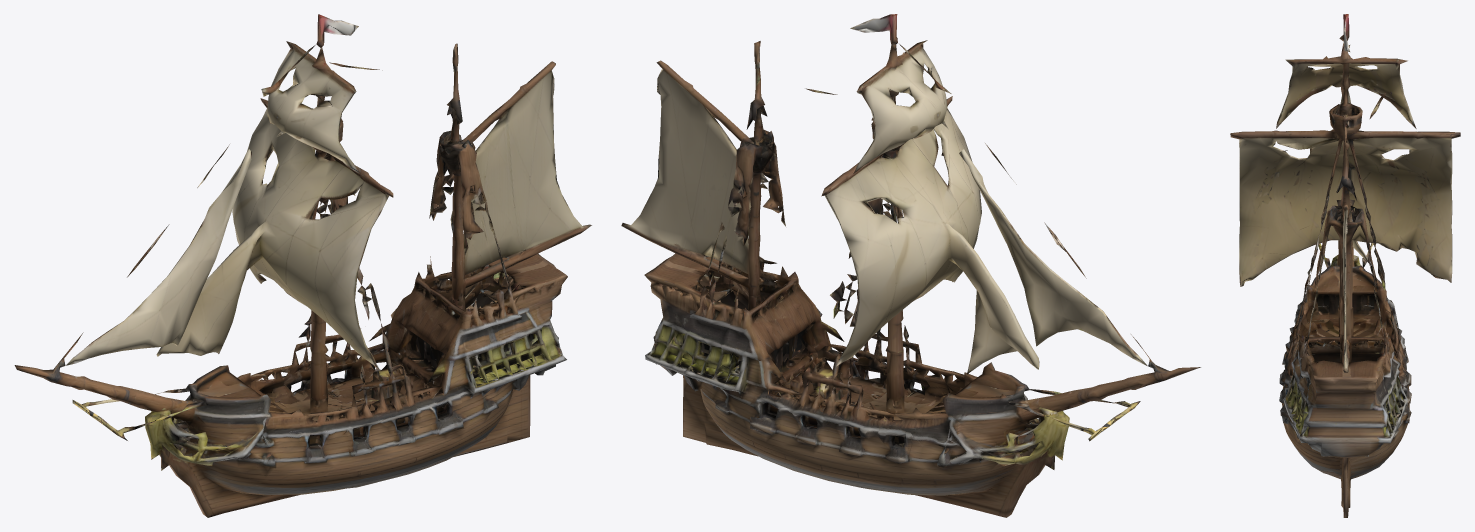
The model's file is medievalShipNormal.fbx.
The picture shows the model from 3 angles, left to right: view 1: azimuth 30°, elevation 25°; view 2: azimuth 150°, elevation 25°; view 3: azimuth 270°, elevation 25°; orthographic projection. The views are drawn at different scales.
Visible parts, largest first — view 1: Mesh1.0; view 2: Mesh1.0; view 3: Mesh1.0.
Part boxes in pixels (<box>): Mesh1.0: <box>14,14,591,517</box>; Mesh1.0: <box>621,14,1200,517</box>; Mesh1.0: <box>1230,14,1460,517</box>.
Bounding box in the file's own units: 190 × 149 × 74.88.
1 material, 1 textured.
